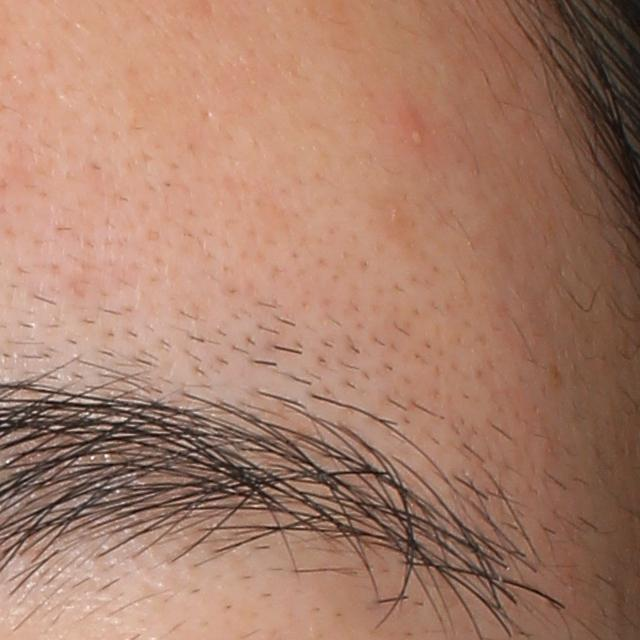pustule: (407, 120, 433, 147)
